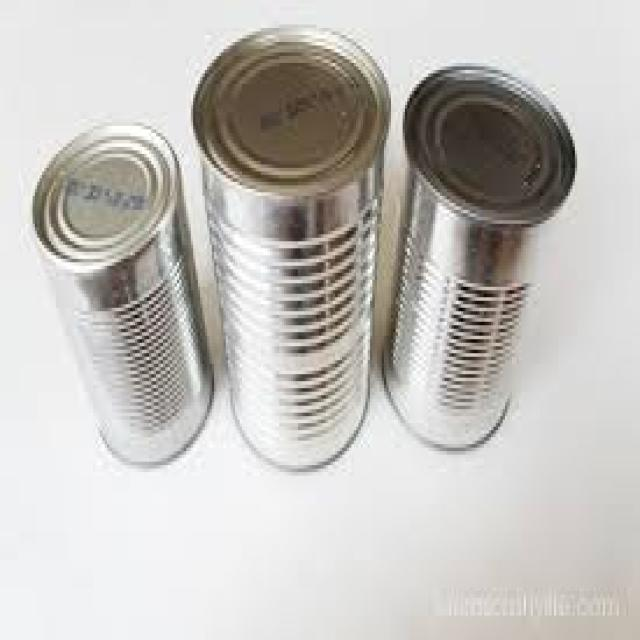Dry Waste: (11, 57, 562, 466)
